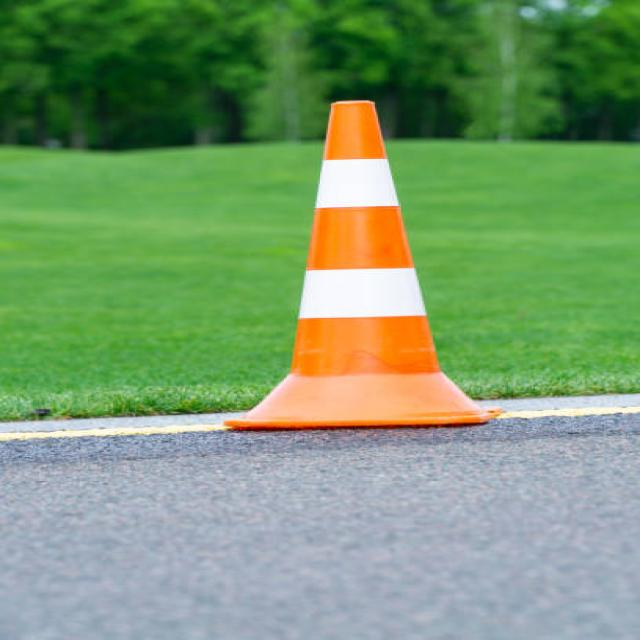Traffic Cone: (196, 77, 510, 451)
